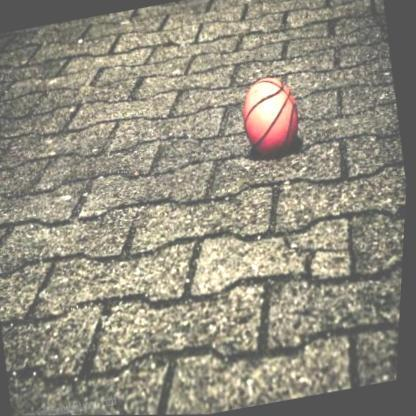basketball: (235, 69, 309, 160)
